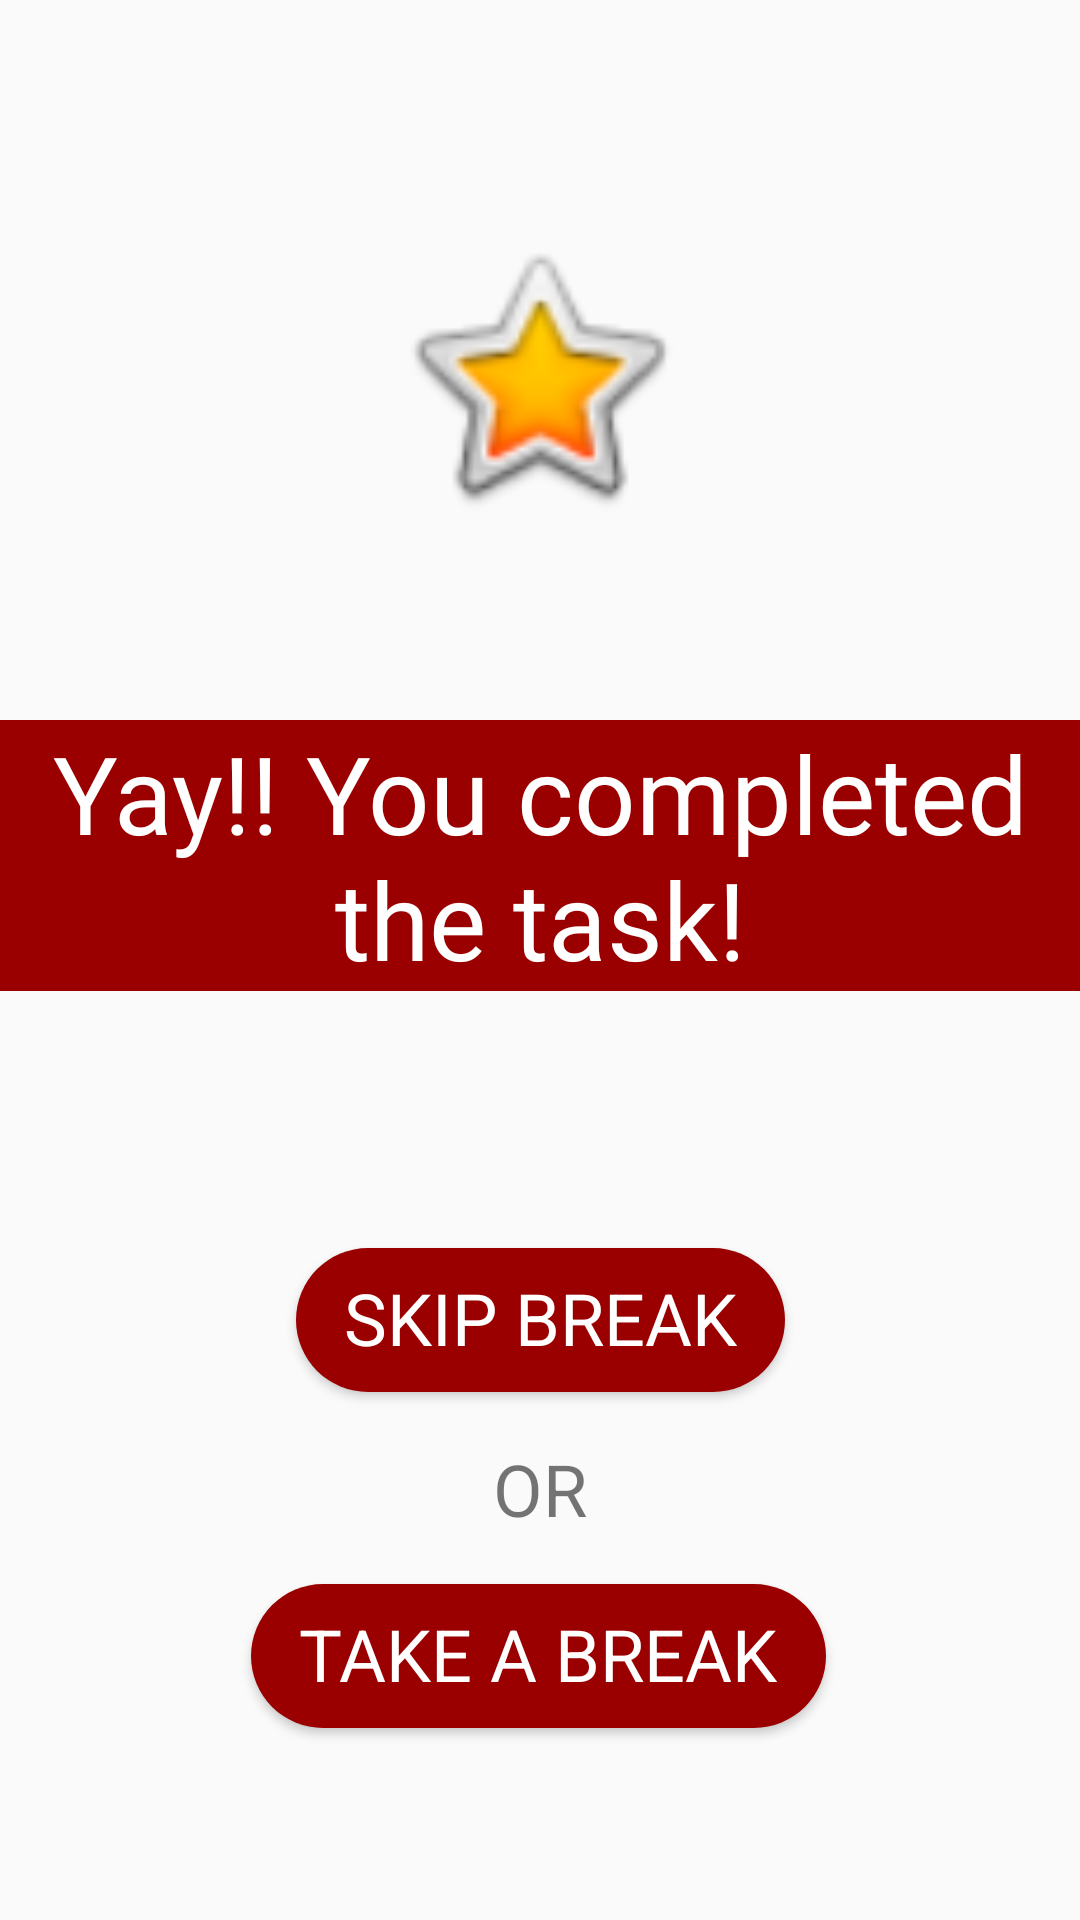

Locate icon controls on the screen. Image size 1080 x 1920, boxes as (x1, y1, x2, y2).
star on: (415, 257, 666, 501)
